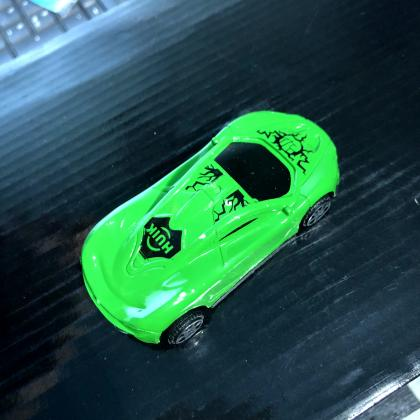Car: (79, 111, 340, 350)
